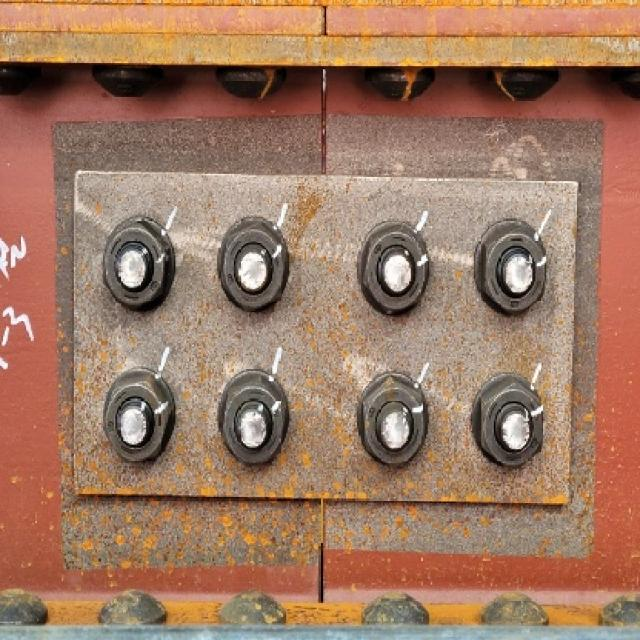Regular bolt: (472, 375, 550, 472), (474, 220, 552, 316), (355, 223, 433, 317), (219, 218, 293, 315), (218, 370, 291, 465), (103, 219, 177, 312), (357, 376, 431, 469), (102, 374, 174, 460)
